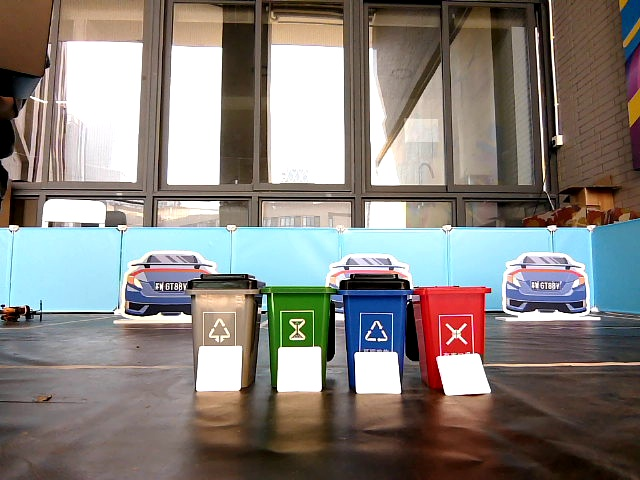blue_close: (342, 273, 404, 349)
green_open: (269, 286, 326, 345)
grey_close: (193, 274, 256, 345)
red_open: (421, 285, 482, 351)
